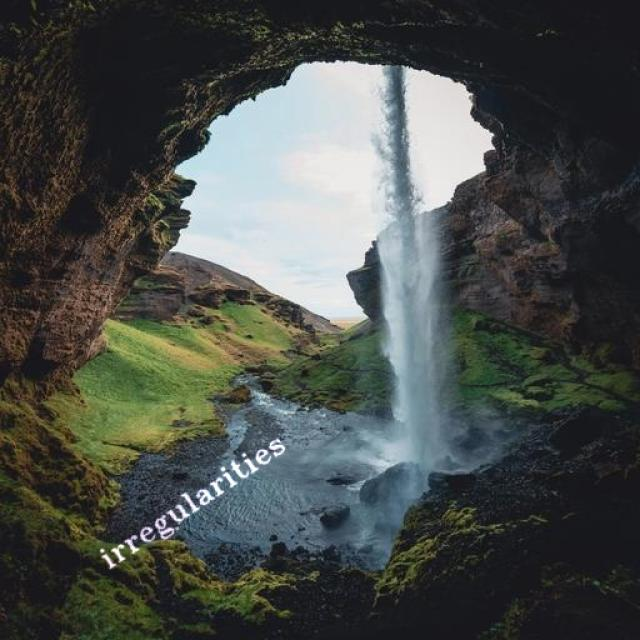watermark: (100, 425, 286, 574)
